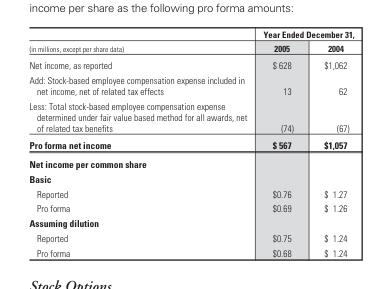table: (28, 28, 353, 258)
table column: (28, 28, 254, 258), (254, 28, 308, 258), (308, 28, 353, 258)
table column header: (28, 28, 353, 56)
table projected row header: (28, 154, 353, 170), (28, 170, 353, 185), (28, 215, 353, 230)
table row: (28, 98, 353, 136), (28, 72, 353, 98), (28, 136, 353, 154), (28, 40, 353, 56), (28, 56, 353, 72), (28, 154, 353, 170), (28, 170, 353, 185), (28, 185, 353, 200), (28, 200, 353, 215), (28, 215, 353, 230), (28, 230, 353, 245), (28, 245, 353, 258), (28, 28, 353, 40)
table spanning cell: (28, 28, 254, 56), (254, 28, 353, 40)
